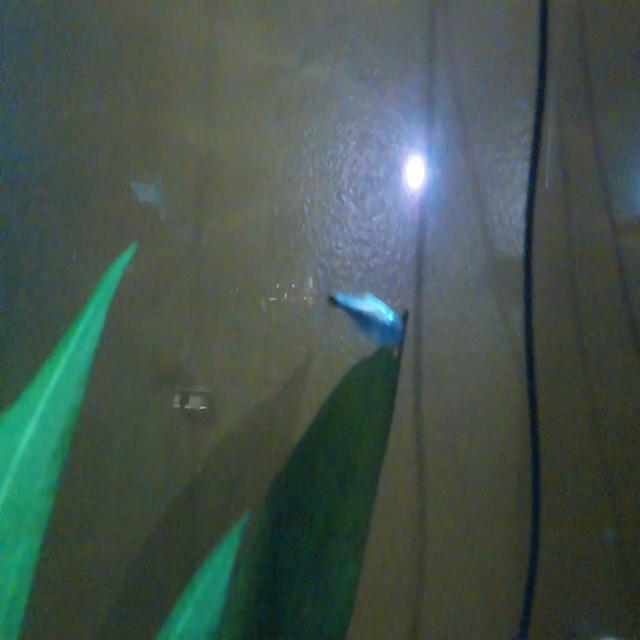fish: (312, 272, 408, 350)
